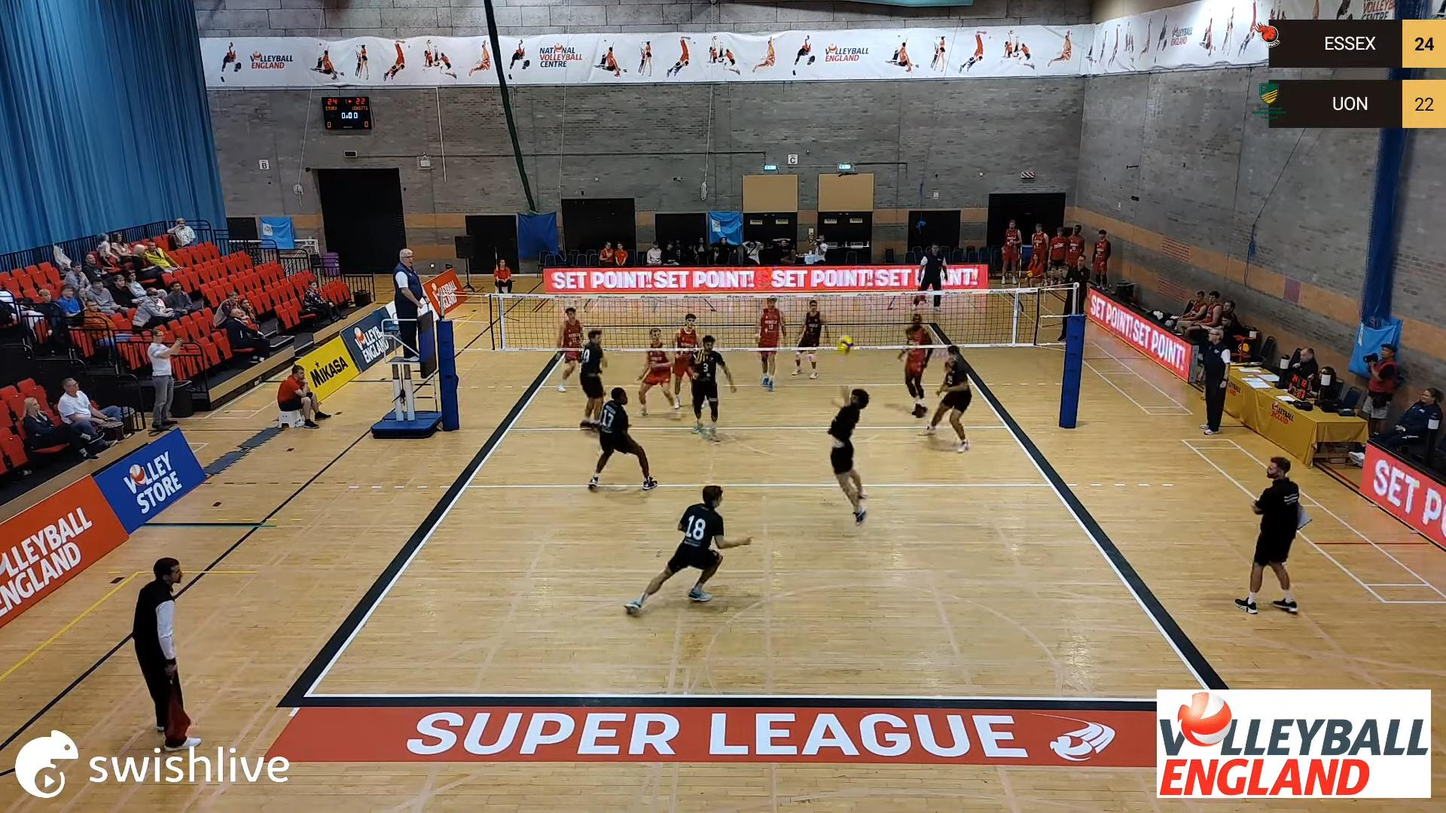Dig: (818, 384, 877, 521)
Player: (625, 485, 751, 615), (588, 387, 657, 489), (925, 345, 972, 452), (691, 336, 736, 440), (898, 312, 929, 417), (638, 327, 671, 416), (756, 297, 785, 391), (579, 328, 606, 428), (792, 300, 824, 377), (673, 313, 698, 409), (557, 306, 583, 391)
ball: (834, 339, 856, 353)
